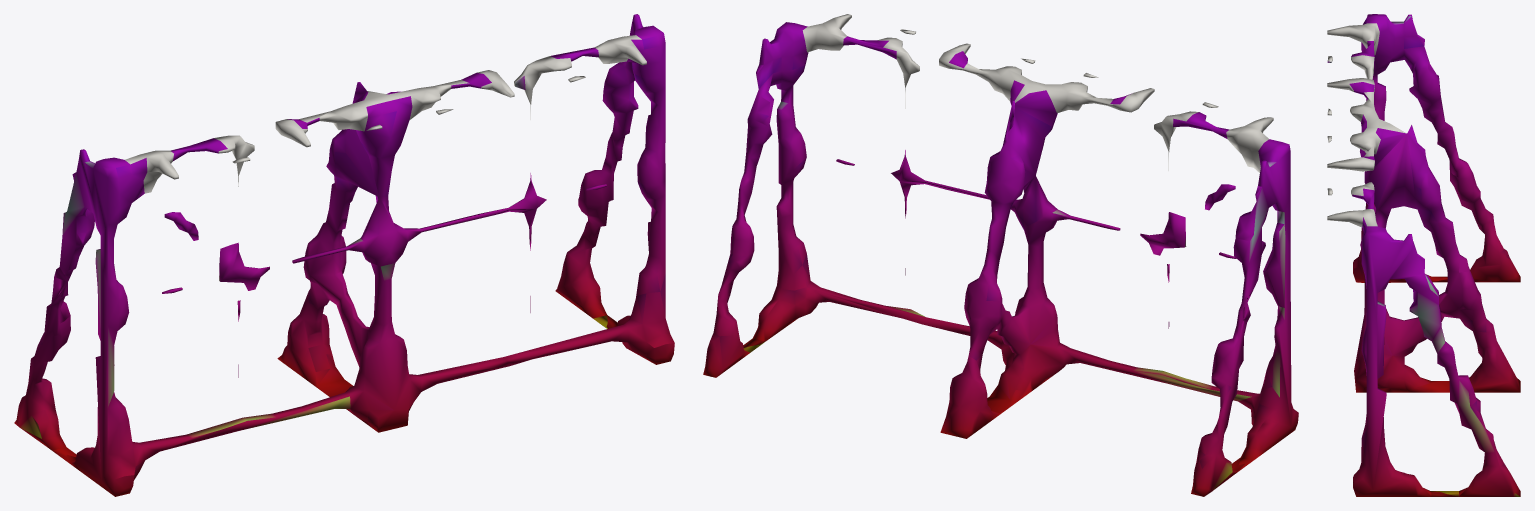
Rendered from wl_gas_billboard.glb.
The picture shows the model from 3 angles, left to right: view 1: azimuth 30°, elevation 25°; view 2: azimuth 150°, elevation 25°; view 3: azimuth 270°, elevation 25°; orthographic projection. The views are drawn at different scales.
Parts seen in each view (by area): view 1: wl_gas_billboard; view 2: wl_gas_billboard; view 3: wl_gas_billboard.
Part boxes in pixels (left/top/right/bottom): wl_gas_billboard: left=14, top=14, right=674, bottom=496; wl_gas_billboard: left=703, top=14, right=1298, bottom=496; wl_gas_billboard: left=1327, top=14, right=1520, bottom=496.
Bounding box in the file's own units: 4.39 × 2.45 × 1.6.
